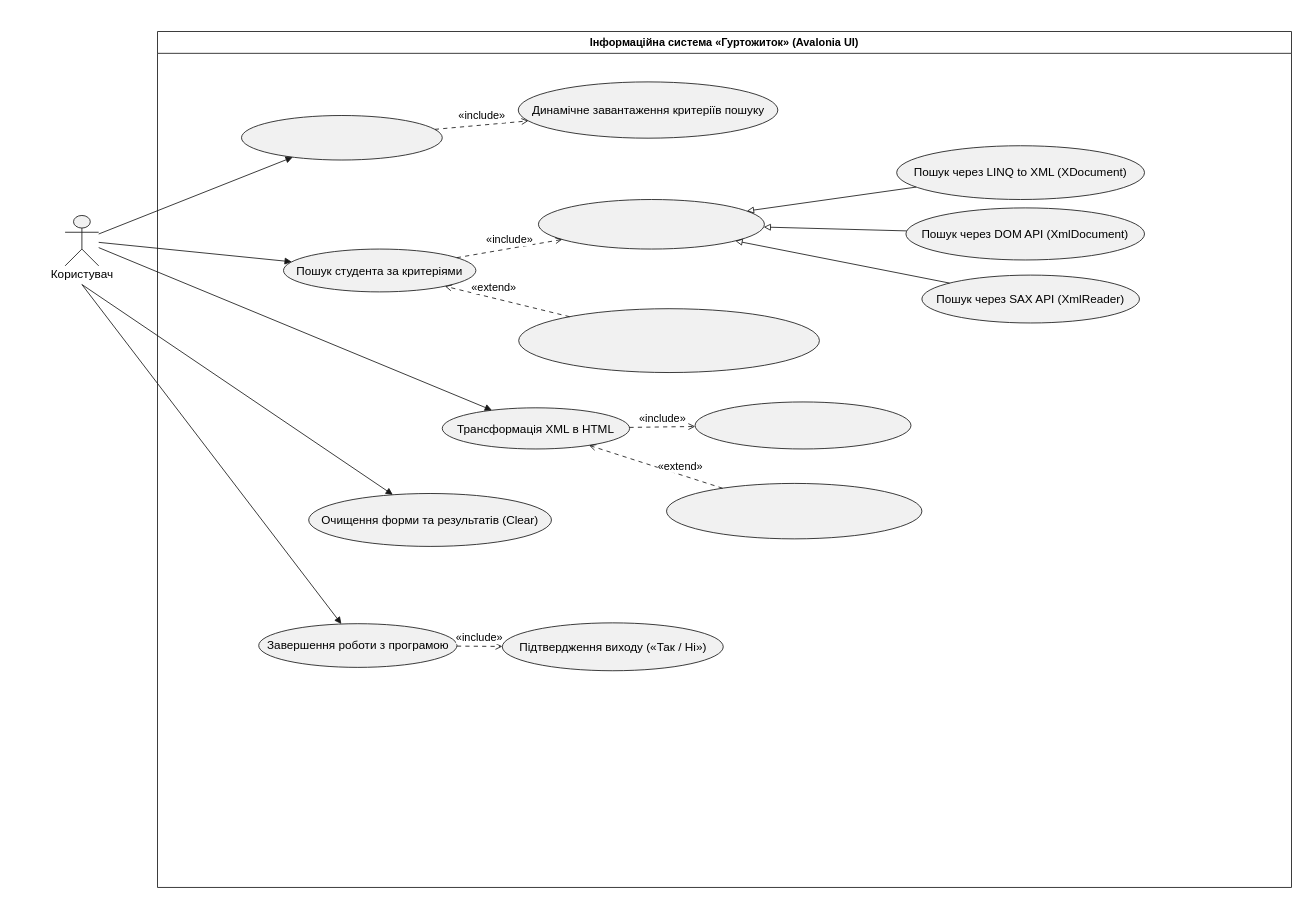
The diagram is 1306 pixels wide and 902 high, and some of its shapes have lost their labels. Each missing label, with the centre of its shape:
"Автоматичне відкриття HTML у браузері" belongs at pixel 794 511.
"Вибір алгоритму аналізу (Strategy)" belongs at pixel 651 224.
"Вибір та відкриття XML-файлу" belongs at pixel 341 137.
"Відображення повідомлення «Нічого не знайдено»" belongs at pixel 668 340.
"Застосування XSLT шаблону (.xsl)" belongs at pixel 802 425.
